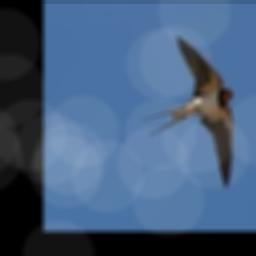Swallow: (142, 36, 236, 188)
